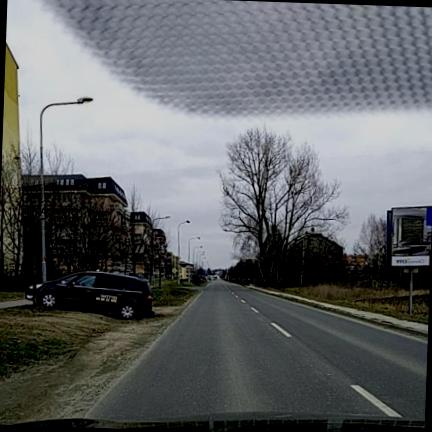Road: (88, 281, 427, 420)
